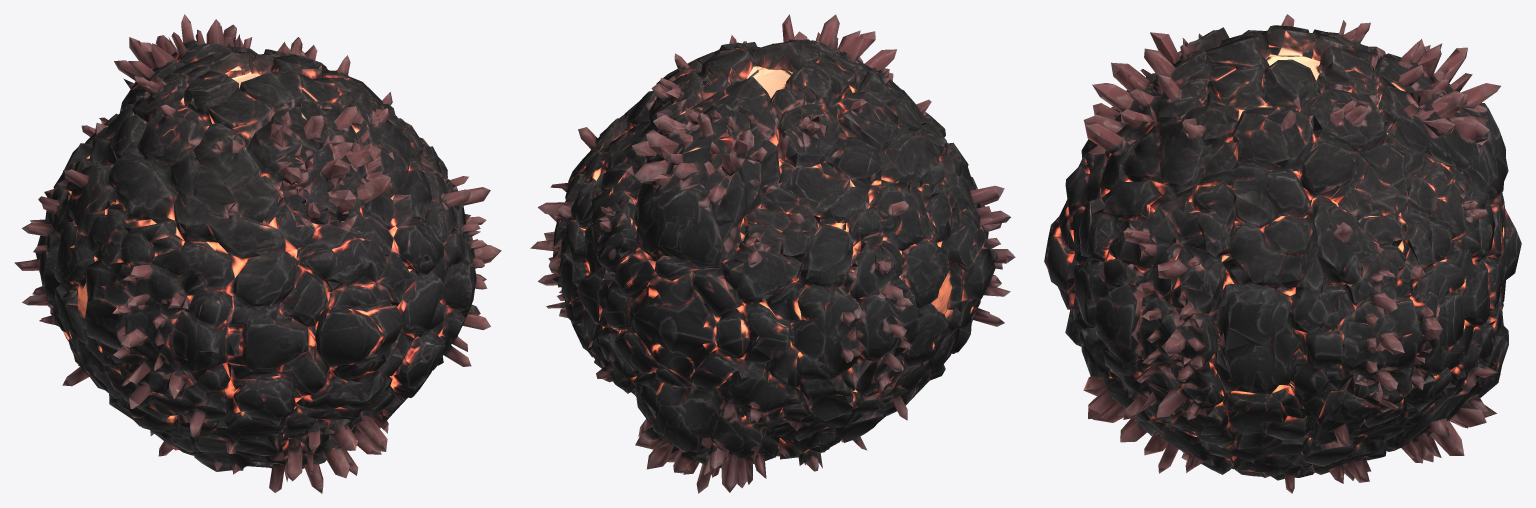
File: skarnox.glb
The picture shows the model from 3 angles, left to right: view 1: azimuth 30°, elevation 25°; view 2: azimuth 150°, elevation 25°; view 3: azimuth 270°, elevation 25°; orthographic projection. The views are drawn at different scales.
Parts seen in each view (by area): view 1: skarnox; view 2: skarnox; view 3: skarnox.
Boxes of the visible parts, x1,y1,x2,y2 form: skarnox: (14,14,501,493); skarnox: (530,14,1015,493); skarnox: (1044,14,1521,493).
Bounding box in the file's own units: 1.9 × 1.87 × 1.9.
1 material, 1 textured.
